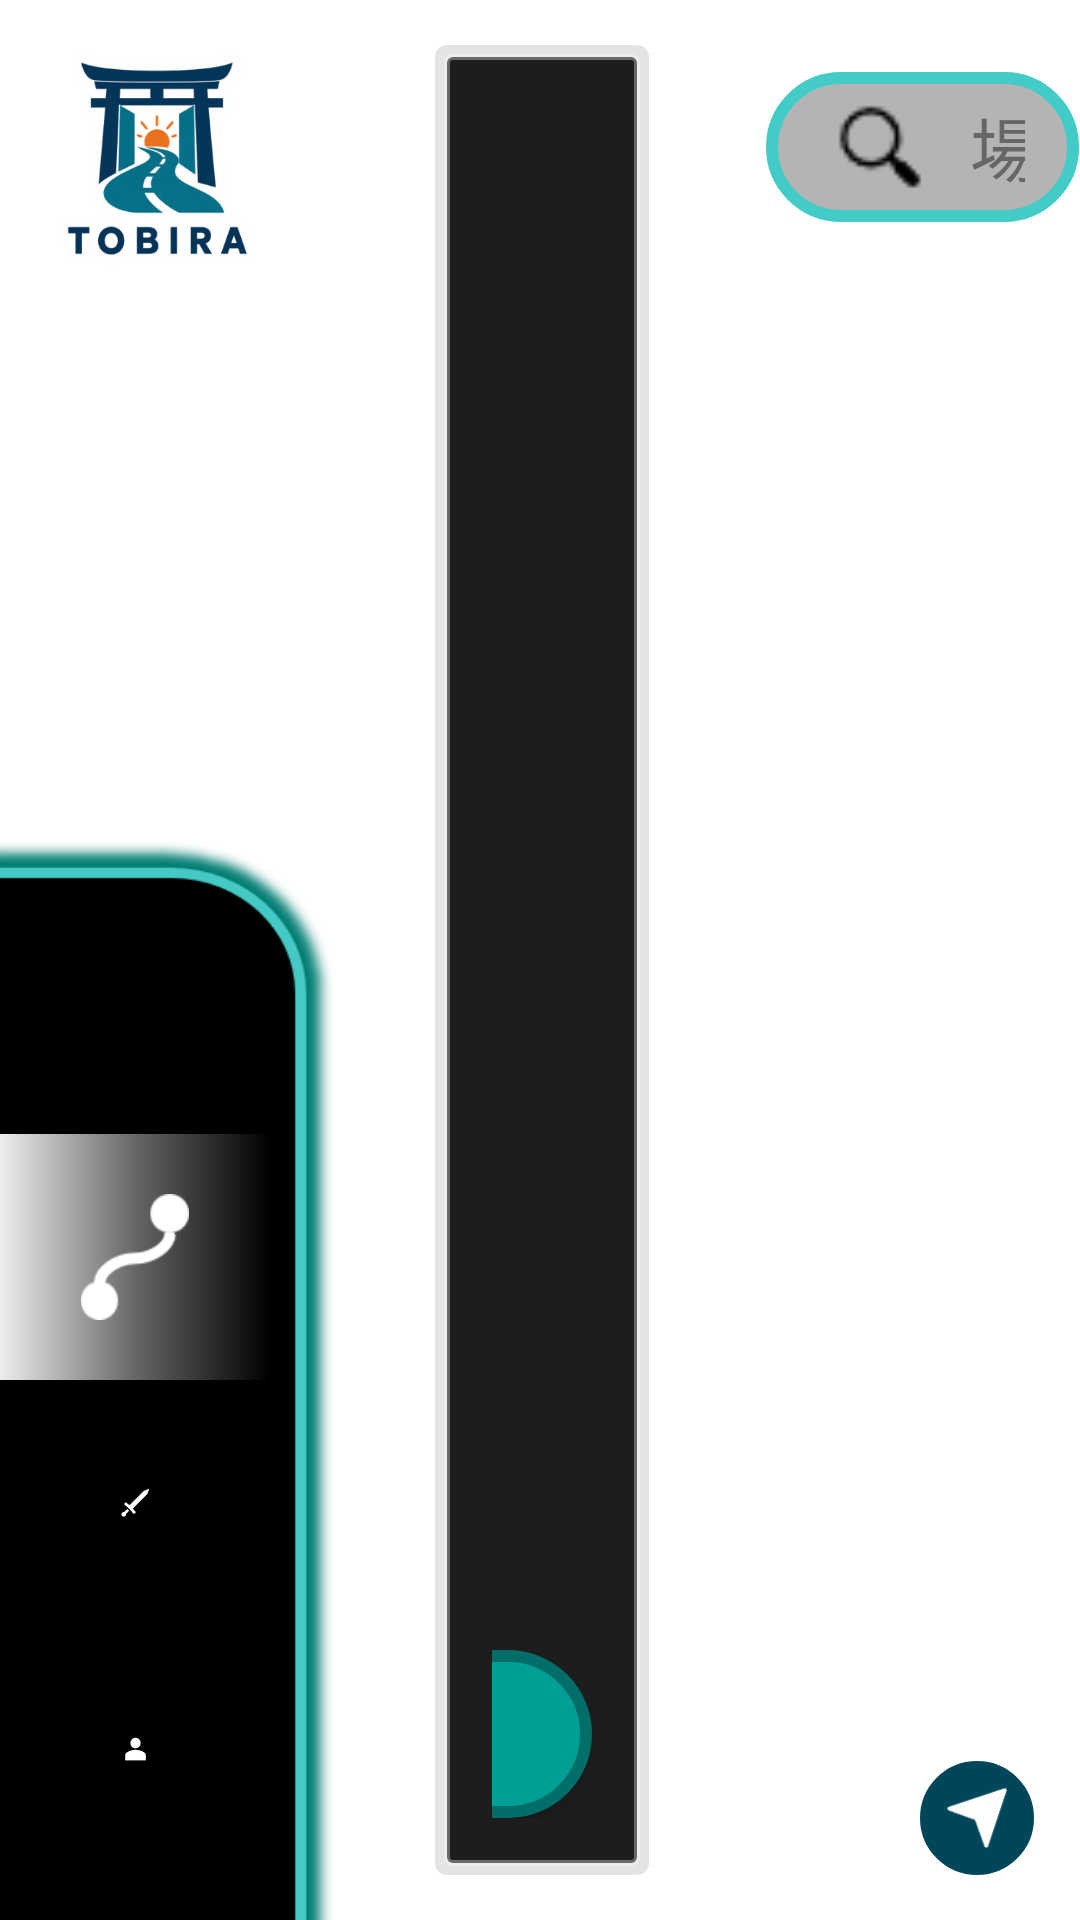

Named icons in this screenshot (1080px x 1920px) and their centers, (x,y):
クエスト: (135,1503)
ユーザー: (135,1749)
ルート: (135,1257)
現在地: (977,1818)
